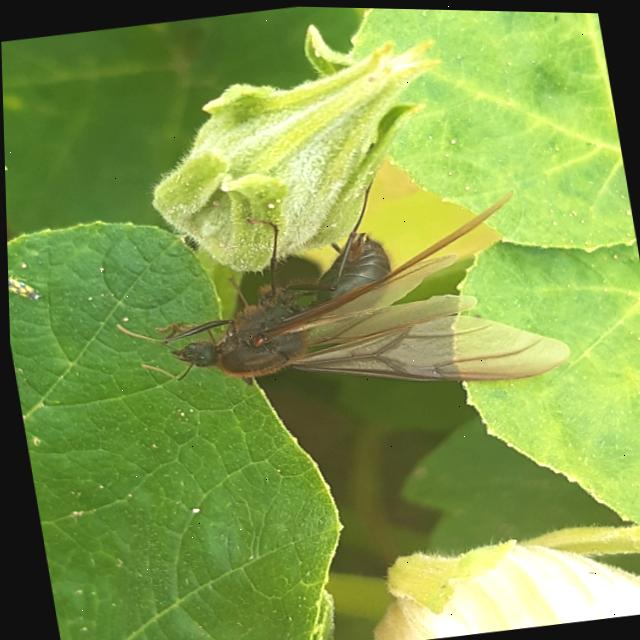Alive-Male-Alate: (93, 147, 574, 432)
